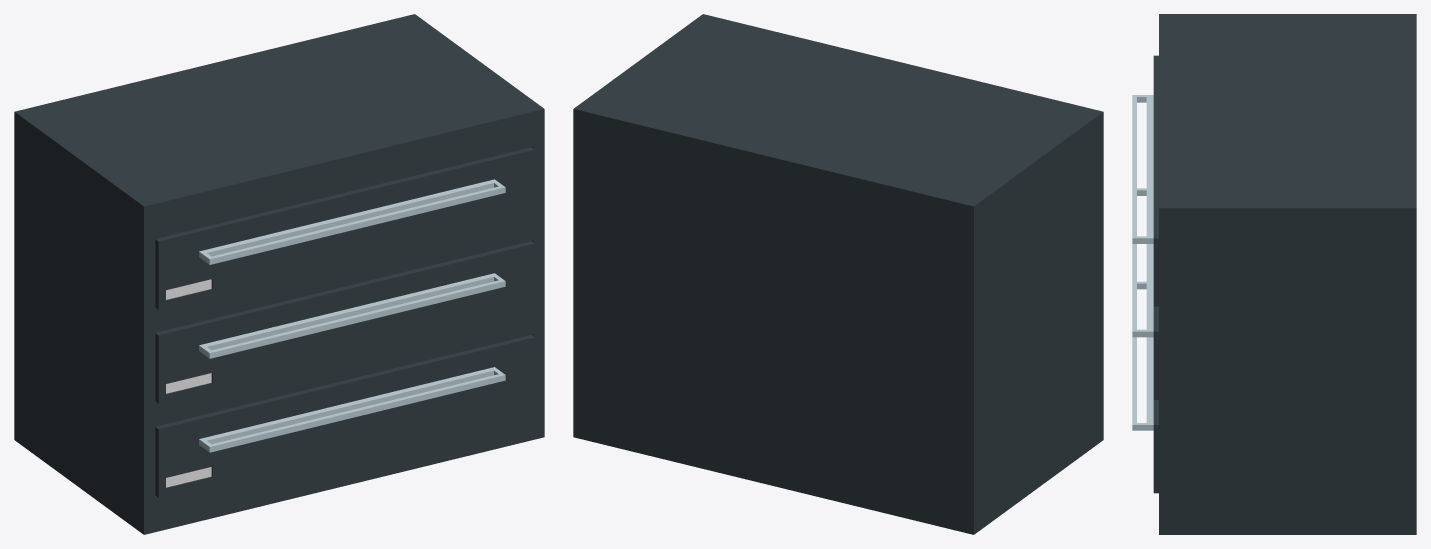
Rendered from CabinetV2Black.fbx.
The picture shows the model from 3 angles, left to right: view 1: azimuth 30°, elevation 25°; view 2: azimuth 150°, elevation 25°; view 3: azimuth 270°, elevation 25°; orthographic projection.
Visible parts, largest first — view 1: CabinetV2Black, CabinetV2Black_Drawer1, CabinetV2Black_Drawer2, CabinetV2Black_Drawer3; view 2: CabinetV2Black; view 3: CabinetV2Black, CabinetV2Black_Drawer1, CabinetV2Black_Drawer3, CabinetV2Black_Drawer2.
Boxes of the visible parts, x1,y1,x2,y2 form: CabinetV2Black: [14, 14, 544, 534]; CabinetV2Black_Drawer1: [155, 147, 534, 310]; CabinetV2Black_Drawer2: [155, 241, 534, 403]; CabinetV2Black_Drawer3: [155, 335, 534, 497]; CabinetV2Black: [573, 14, 1103, 534]; CabinetV2Black: [1159, 14, 1416, 534]; CabinetV2Black_Drawer1: [1132, 55, 1158, 306]; CabinetV2Black_Drawer3: [1132, 281, 1158, 493]; CabinetV2Black_Drawer2: [1132, 188, 1158, 399].
Bounding box in the file's own units: 89.32 × 70 × 55.23.
